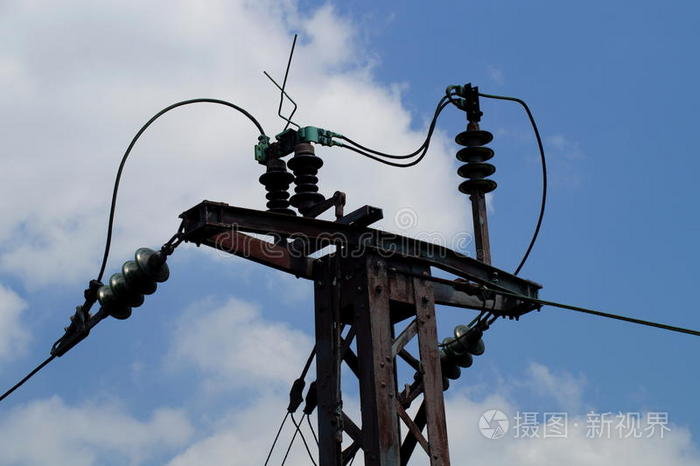insulator: (98, 245, 168, 322), (438, 322, 485, 390), (454, 128, 499, 199)
